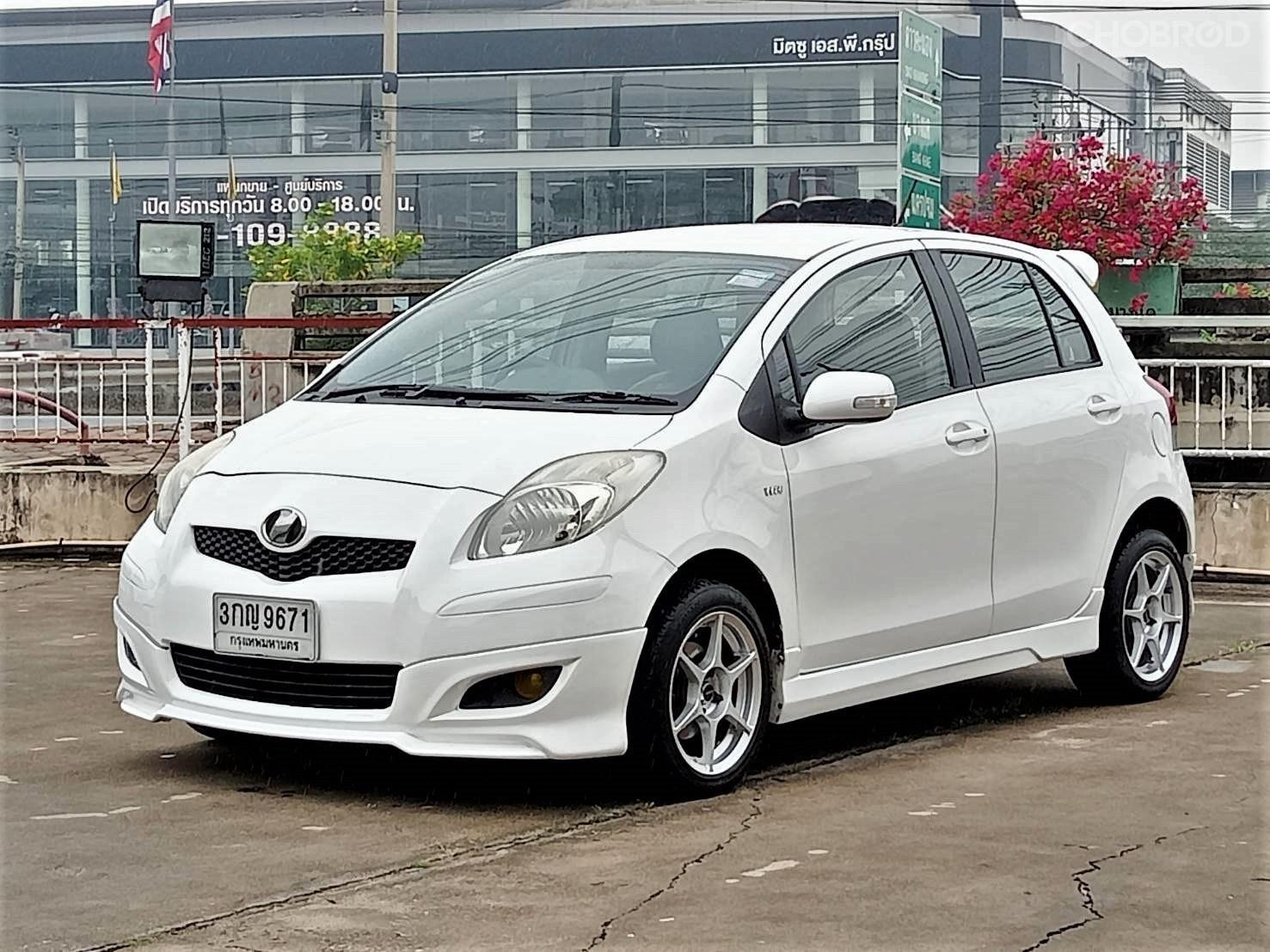license-plate: (207, 586, 320, 672)
